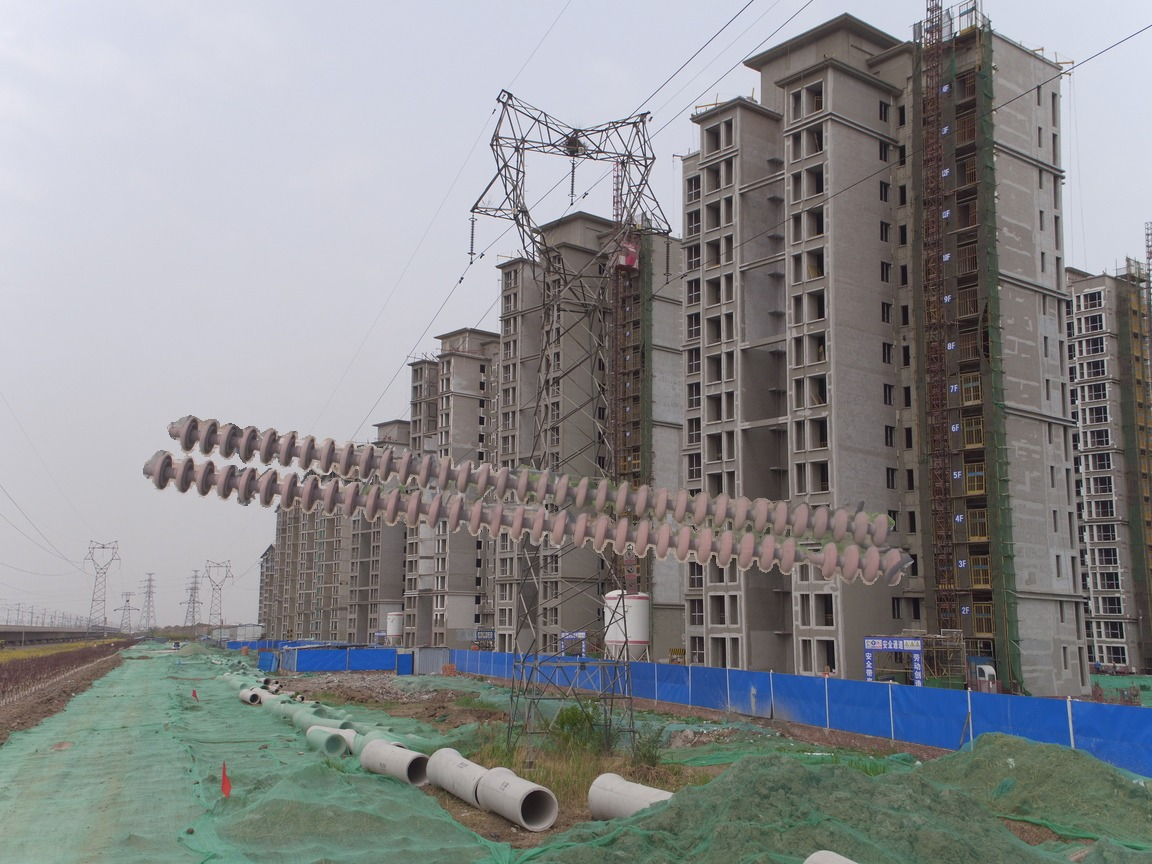defect: (775, 534, 842, 580)
